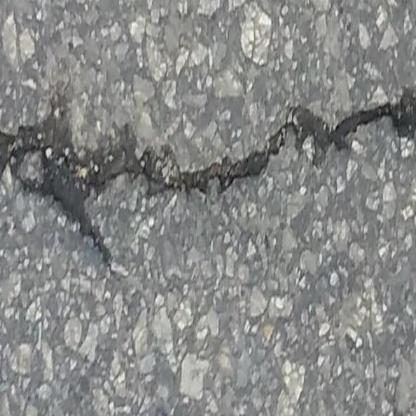Cracks: (0, 55, 416, 265)
